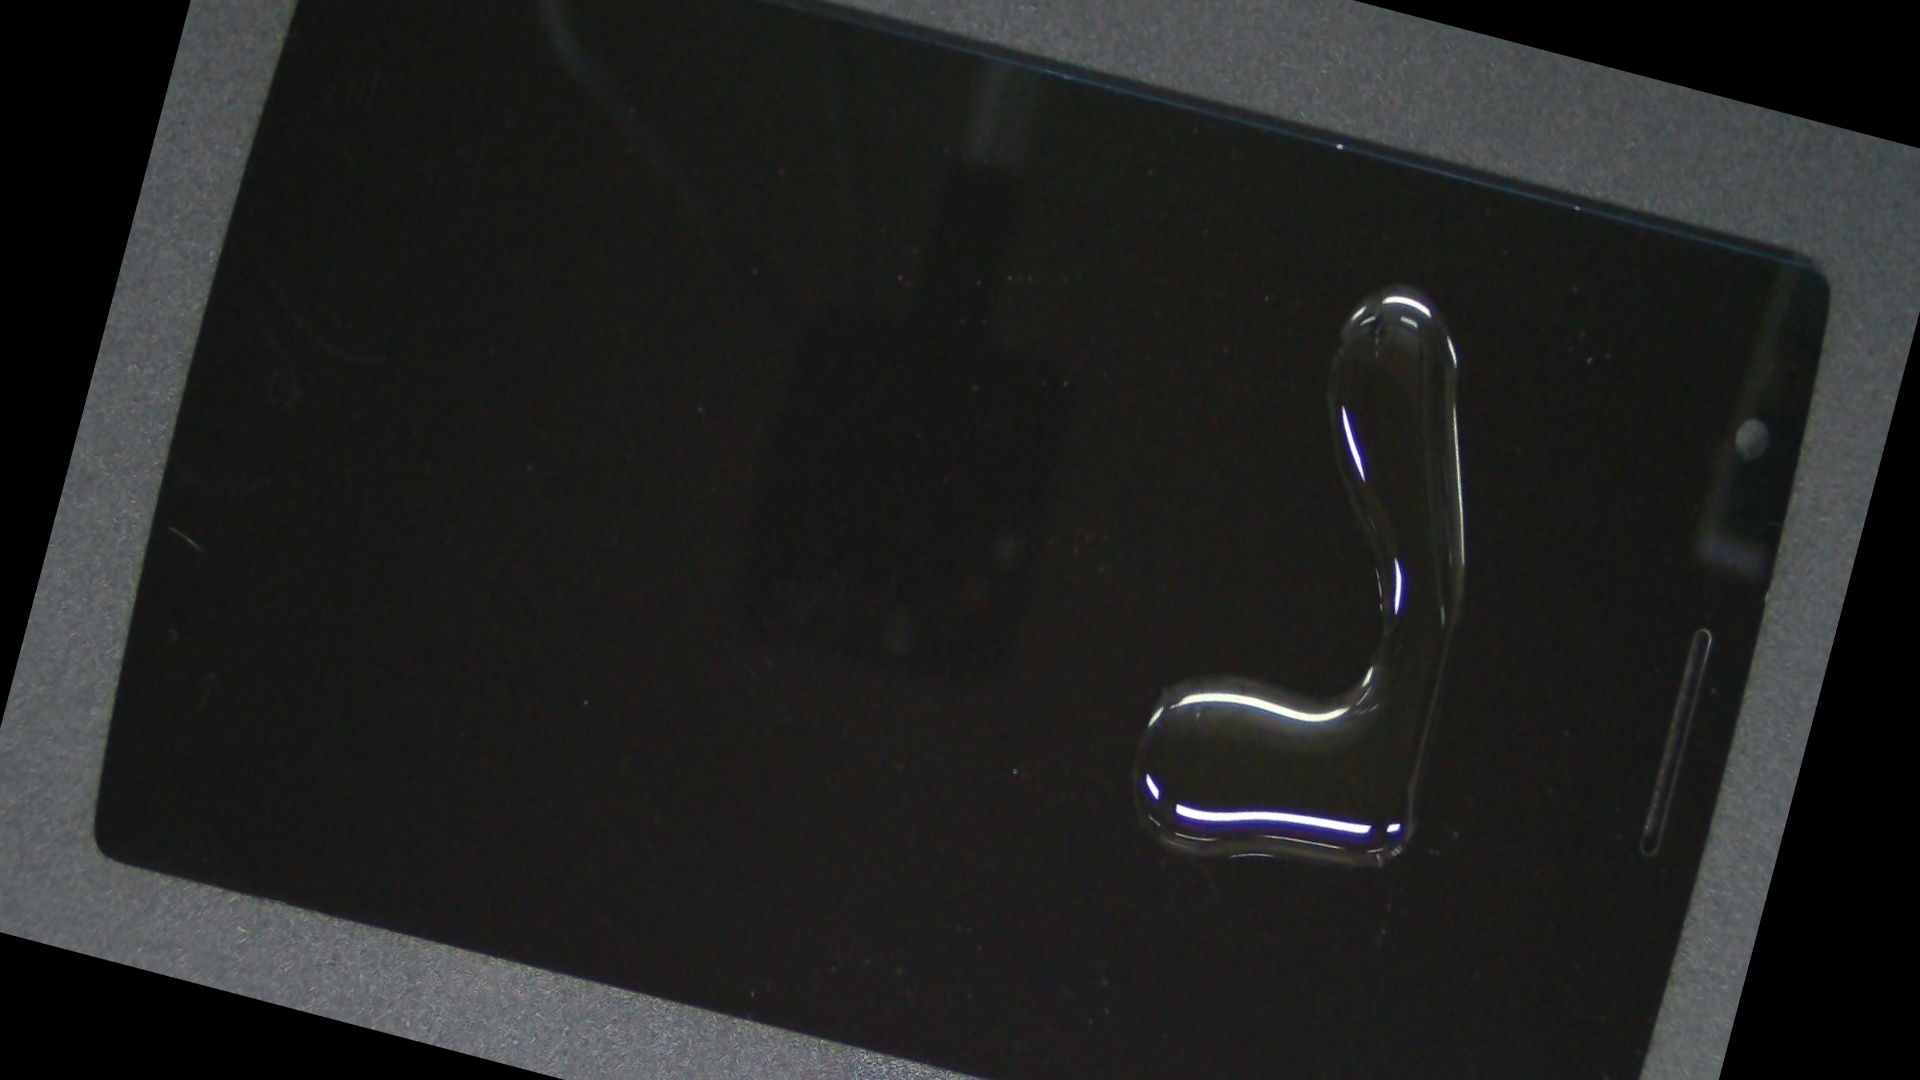oil: (770, 0, 1920, 537)
